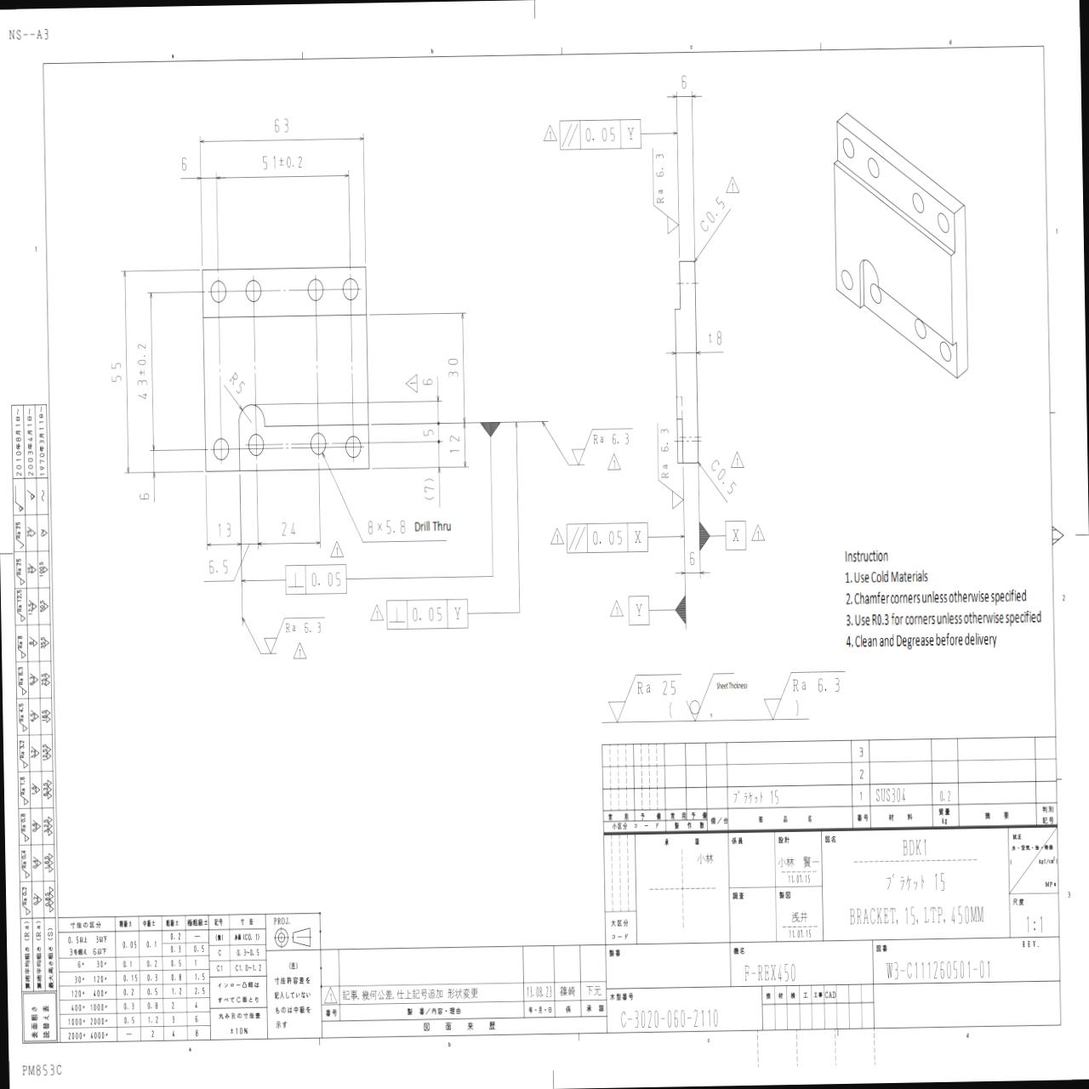basic_dimension: (412, 607, 443, 624), (311, 572, 341, 588), (585, 127, 615, 143), (593, 530, 624, 545), (209, 559, 228, 575), (281, 521, 296, 538), (449, 435, 461, 453), (275, 118, 289, 133), (111, 363, 122, 382), (448, 359, 459, 378), (218, 522, 231, 538), (689, 551, 696, 566), (424, 485, 435, 494), (139, 492, 151, 500), (681, 75, 687, 89), (182, 157, 187, 171), (423, 430, 434, 436), (422, 379, 433, 385)
datum_symbol: (629, 595, 686, 626), (699, 521, 747, 552)
dimension_chamfer_symbol: (698, 196, 726, 235), (710, 458, 737, 496)
dimension_chamfer_text: (705, 195, 726, 225), (716, 467, 737, 496)
dimension_radius_symbol: (229, 371, 245, 395)
dimension_radius_text: (234, 378, 246, 395)
dimension_thickness_symbol: (707, 331, 722, 345)
dimension_thickness_text: (717, 330, 723, 345)
explicit_tolerance_text: (262, 154, 303, 171), (136, 343, 148, 400)
gdt_frame_symbol: (559, 118, 642, 152), (565, 521, 650, 554), (386, 598, 470, 631), (284, 563, 347, 596)
gdt_parallelism_symbol: (562, 124, 578, 147), (569, 527, 585, 550)
gdt_perpendicularity_symbol: (288, 572, 304, 587), (389, 608, 405, 623)
revision_triangle_symbol: (543, 124, 557, 141), (751, 524, 765, 541), (610, 600, 624, 617), (607, 453, 621, 470), (293, 642, 307, 659), (330, 540, 344, 557), (406, 374, 418, 393), (550, 528, 564, 544), (726, 176, 739, 193), (731, 451, 744, 468), (371, 604, 384, 621)
surface_finish_symbol: (764, 671, 845, 721), (608, 674, 682, 723), (652, 147, 680, 235), (571, 428, 633, 466), (263, 617, 325, 655), (657, 423, 684, 509)
surface_finish_text: (817, 676, 841, 693), (659, 428, 671, 454), (662, 680, 677, 696), (655, 153, 664, 178), (613, 432, 629, 446), (304, 622, 322, 634)
